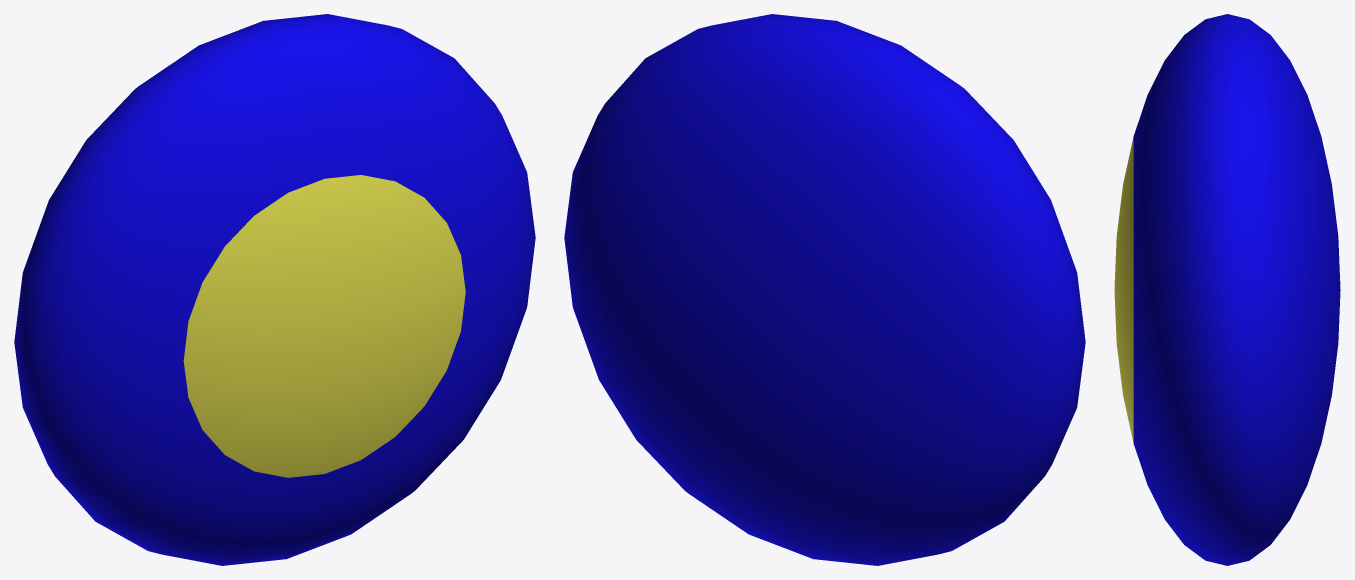
Rendered from COIN_01.fbx.
3 views of the same model, side by side, from view 1: azimuth 30°, elevation 25°; view 2: azimuth 150°, elevation 25°; view 3: azimuth 270°, elevation 25° (orthographic). The views are drawn at different scales.
Parts seen in each view (by area): view 1: Sphere; view 2: Sphere; view 3: Sphere.
Boxes of the visible parts, <box> form: Sphere: <box>14,14,535,565</box>; Sphere: <box>564,14,1085,565</box>; Sphere: <box>1114,14,1340,565</box>.
Bounding box in the file's own units: 0.8 × 0.8 × 0.3264.
